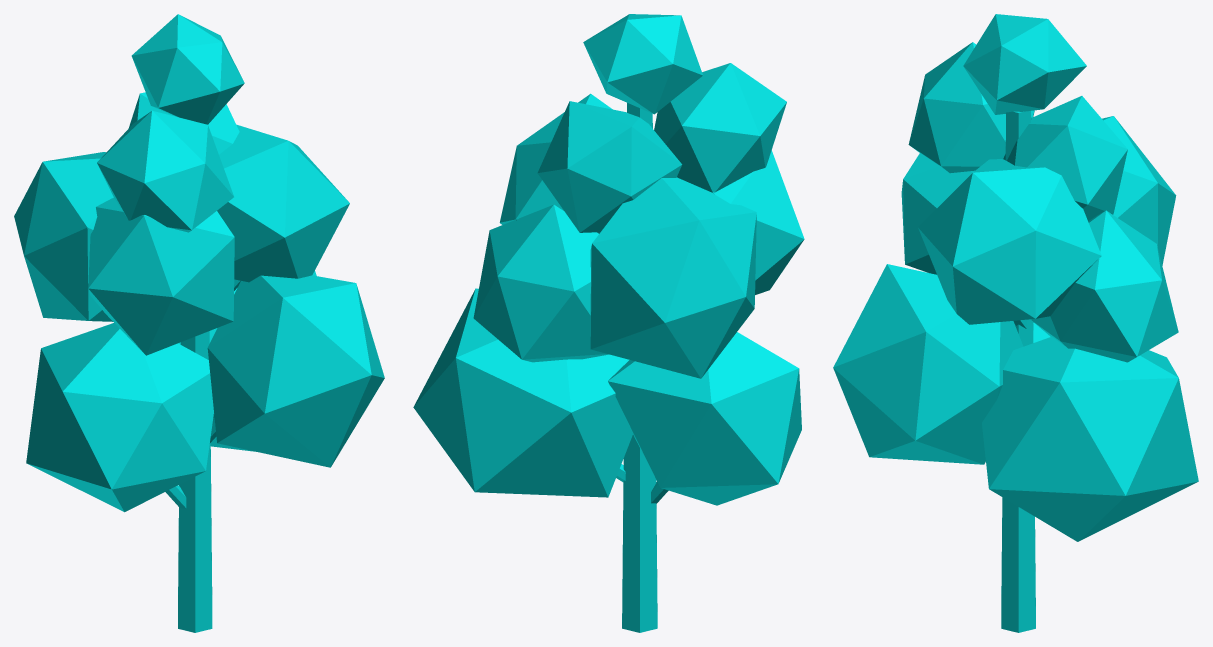
The model's file is Tree 3.fbx.
The picture shows the model from 3 angles, left to right: view 1: azimuth 30°, elevation 25°; view 2: azimuth 150°, elevation 25°; view 3: azimuth 270°, elevation 25°; orthographic projection. The views are drawn at different scales.
Parts seen in each view (by area): view 1: TypicalTrees:sphere_object2, TypicalTrees:sphere_object4, TypicalTrees:sphere_object9, TypicalTrees:sphere_object10, TypicalTrees:sphere_object11, TypicalTrees:sphere_object13, TypicalTrees:sphere_object1, TypicalTrees:pCylinder1, TypicalTrees:sphere_object14; view 2: TypicalTrees:sphere_object3, TypicalTrees:sphere_object11, TypicalTrees:sphere_object2, TypicalTrees:sphere_object12, TypicalTrees:sphere_object14, TypicalTrees:sphere_object13, TypicalTrees:sphere_object1, TypicalTrees:pCylinder1, TypicalTrees:sphere_object9, TypicalTrees:sphere_object10; view 3: TypicalTrees:sphere_object3, TypicalTrees:sphere_object4, TypicalTrees:sphere_object10, TypicalTrees:sphere_object12, TypicalTrees:sphere_object1, TypicalTrees:sphere_object14, TypicalTrees:sphere_object13, TypicalTrees:pCylinder1, TypicalTrees:sphere_object11, TypicalTrees:sphere_object9.
Boxes of the visible parts, x1,y1,x2,y2 form: TypicalTrees:sphere_object2: [26, 323, 213, 512]; TypicalTrees:sphere_object4: [207, 275, 384, 467]; TypicalTrees:sphere_object9: [88, 197, 234, 355]; TypicalTrees:sphere_object10: [217, 124, 349, 282]; TypicalTrees:sphere_object11: [14, 152, 113, 321]; TypicalTrees:sphere_object13: [97, 110, 233, 232]; TypicalTrees:sphere_object1: [131, 14, 244, 124]; TypicalTrees:pCylinder1: [178, 331, 212, 632]; TypicalTrees:sphere_object14: [129, 92, 239, 154]; TypicalTrees:sphere_object3: [413, 288, 633, 497]; TypicalTrees:sphere_object11: [590, 177, 756, 378]; TypicalTrees:sphere_object2: [608, 332, 801, 505]; TypicalTrees:sphere_object12: [473, 204, 609, 362]; TypicalTrees:sphere_object14: [537, 101, 682, 232]; TypicalTrees:sphere_object13: [654, 63, 786, 192]; TypicalTrees:sphere_object1: [583, 14, 702, 114]; TypicalTrees:pCylinder1: [622, 103, 657, 632]; TypicalTrees:sphere_object9: [712, 150, 804, 294]; TypicalTrees:sphere_object10: [499, 93, 612, 233]; TypicalTrees:sphere_object3: [982, 336, 1198, 541]; TypicalTrees:sphere_object4: [833, 264, 1023, 464]; TypicalTrees:sphere_object10: [918, 159, 1101, 324]; TypicalTrees:sphere_object12: [1031, 210, 1178, 362]; TypicalTrees:sphere_object1: [963, 14, 1086, 114]; TypicalTrees:sphere_object14: [1003, 96, 1127, 221]; TypicalTrees:sphere_object13: [908, 42, 1034, 173]; TypicalTrees:pCylinder1: [1001, 111, 1035, 632]; TypicalTrees:sphere_object11: [1102, 116, 1176, 265]; TypicalTrees:sphere_object9: [901, 153, 974, 274].
Size of the model in its own units: 25.89 by 46.48 by 25.49.
